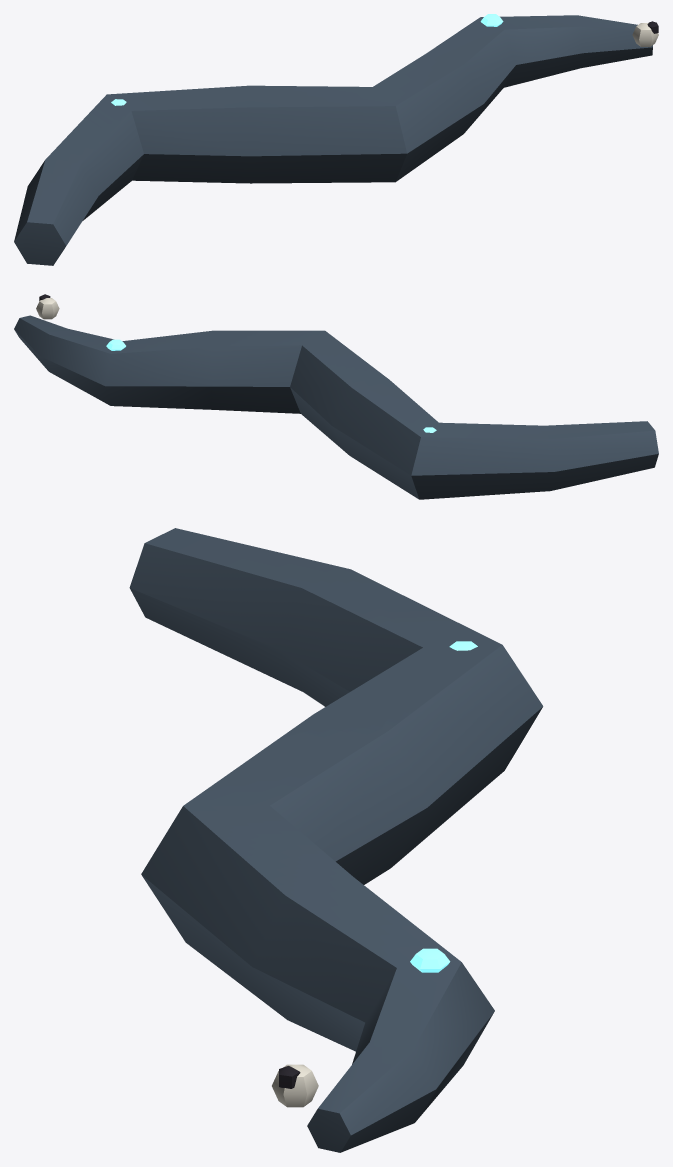
File: item_fish_eel.glb
The picture shows the model from 3 angles, top to bottom: view 1: azimuth 30°, elevation 25°; view 2: azimuth 150°, elevation 25°; view 3: azimuth 270°, elevation 25°; orthographic projection. The views are drawn at different scales.
Parts seen in each view (by area): view 1: item_fish_eel; view 2: item_fish_eel; view 3: item_fish_eel, glow.
Boxes of the visible parts, x1,y1,x2,y2 form: item_fish_eel: (14, 15, 658, 265); item_fish_eel: (14, 294, 658, 499); item_fish_eel: (129, 528, 543, 1152); glow: (410, 641, 477, 972).
Bounding box in the file's own units: 0.4142 × 0.046 × 0.1227.
